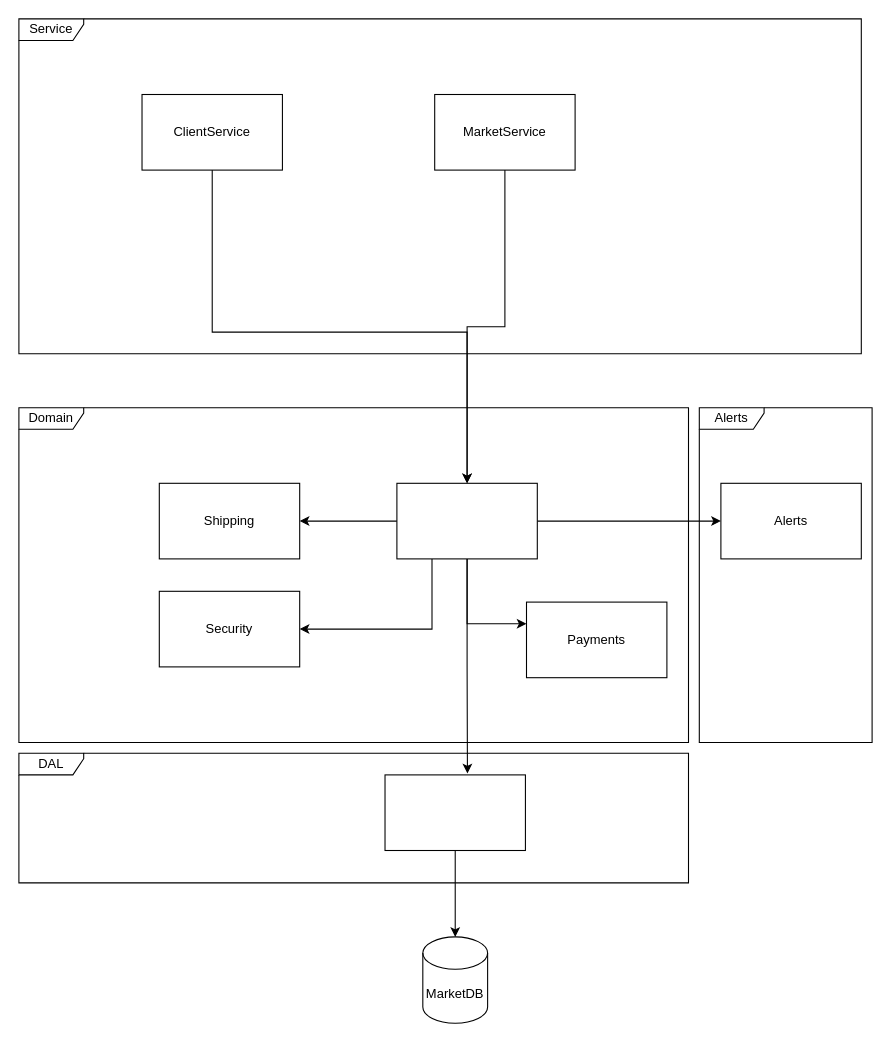
The diagram is 891 pixels wide and 1042 high, and some of its shapes have lost their labels. The shapes that lost their labels are listed below. From the top down, each one's centre as x and y in pixels, then its label:
At point 466,520: "MarketMangerFacade".
At point 454,812: "DBcontext".
